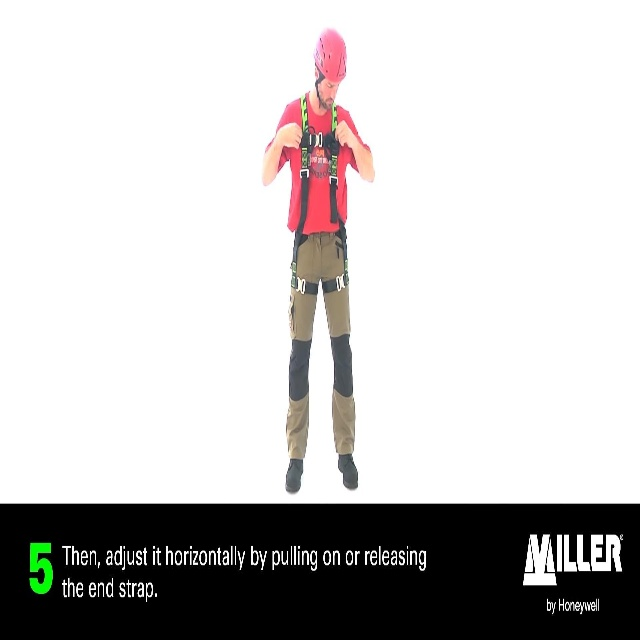Arnes_seguridad: (287, 93, 349, 296)
